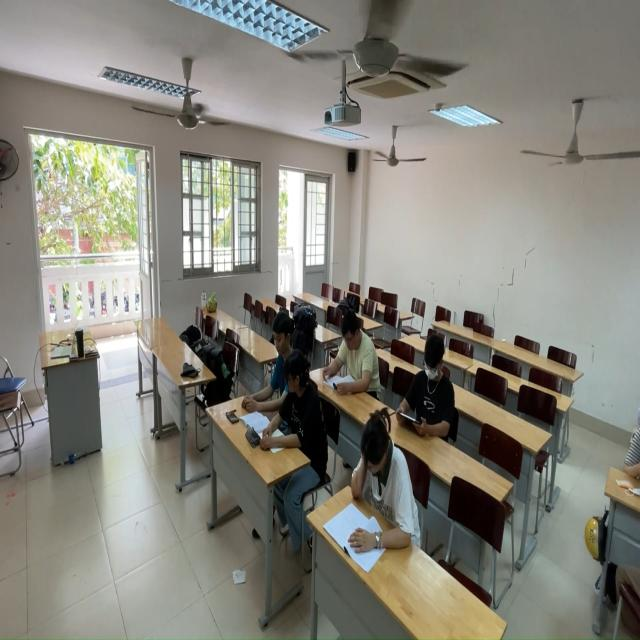read: (351, 406, 428, 573), (258, 350, 329, 478), (387, 332, 460, 449), (230, 320, 300, 418), (320, 309, 386, 396)
